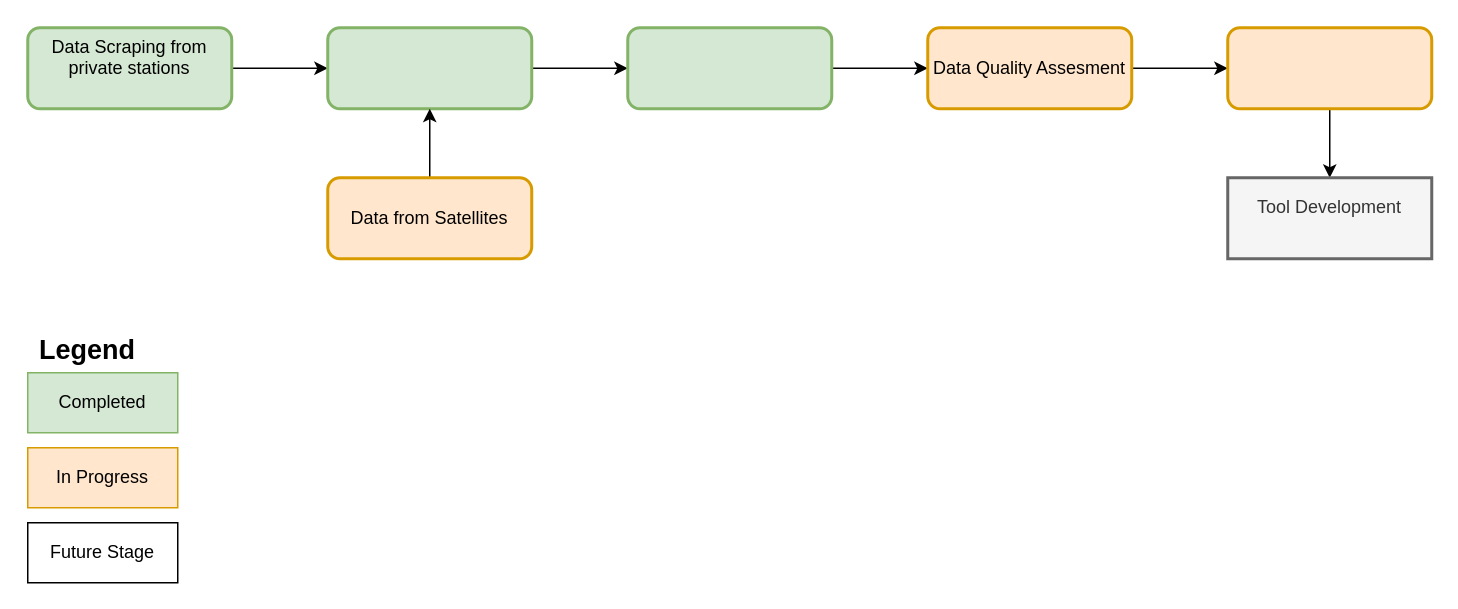
Some shapes in this 1458 by 609 pixel diagram are drawn without their labels. The centre of each missing label's shape, as x and y in pixels:
Data Modelling: point 1329,68
Data PreProcessing: point 429,68
Data Visualization: point 729,68
